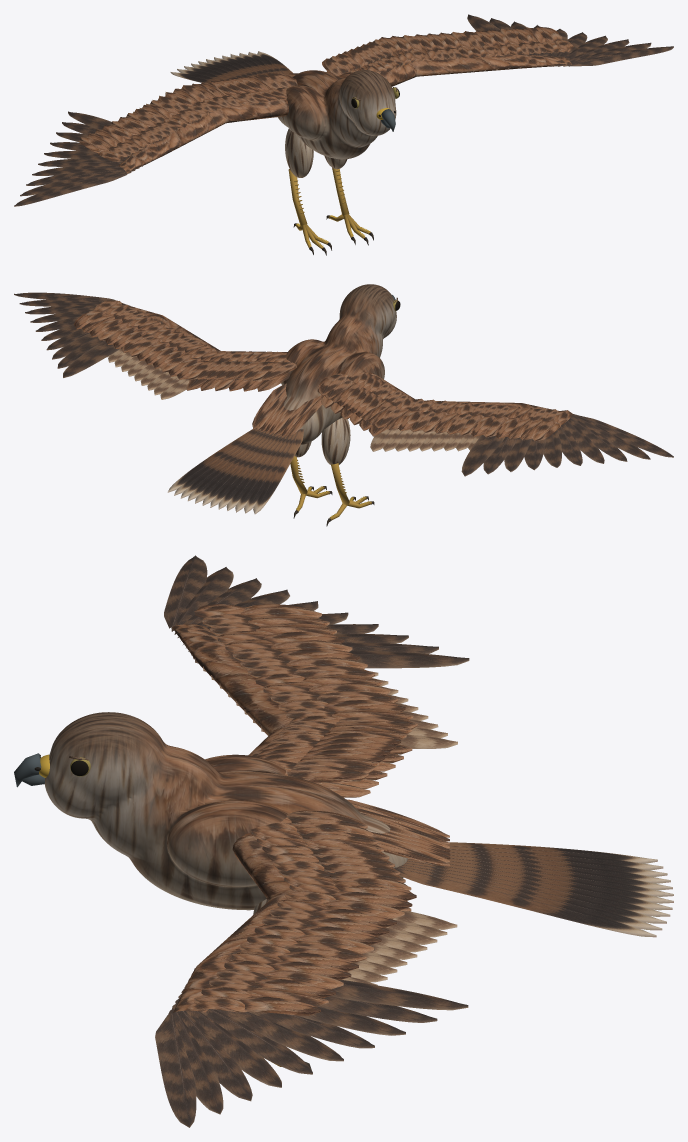
The model's file is Kestrel_Model_v02.fbx.
The picture shows the model from 3 angles, top to bottom: view 1: azimuth 30°, elevation 25°; view 2: azimuth 150°, elevation 25°; view 3: azimuth 270°, elevation 25°; orthographic projection. The views are drawn at different scales.
Visible parts, largest first — view 1: Kestrel_Model_v02; view 2: Kestrel_Model_v02; view 3: Kestrel_Model_v02.
Boxes of the visible parts, bbox=[...] form: Kestrel_Model_v02: bbox=[14, 14, 673, 255]; Kestrel_Model_v02: bbox=[14, 284, 673, 526]; Kestrel_Model_v02: bbox=[14, 555, 673, 1127].
Bounding box in the file's own units: 72.4 × 20.18 × 35.37.
9 materials, 2 textured.
